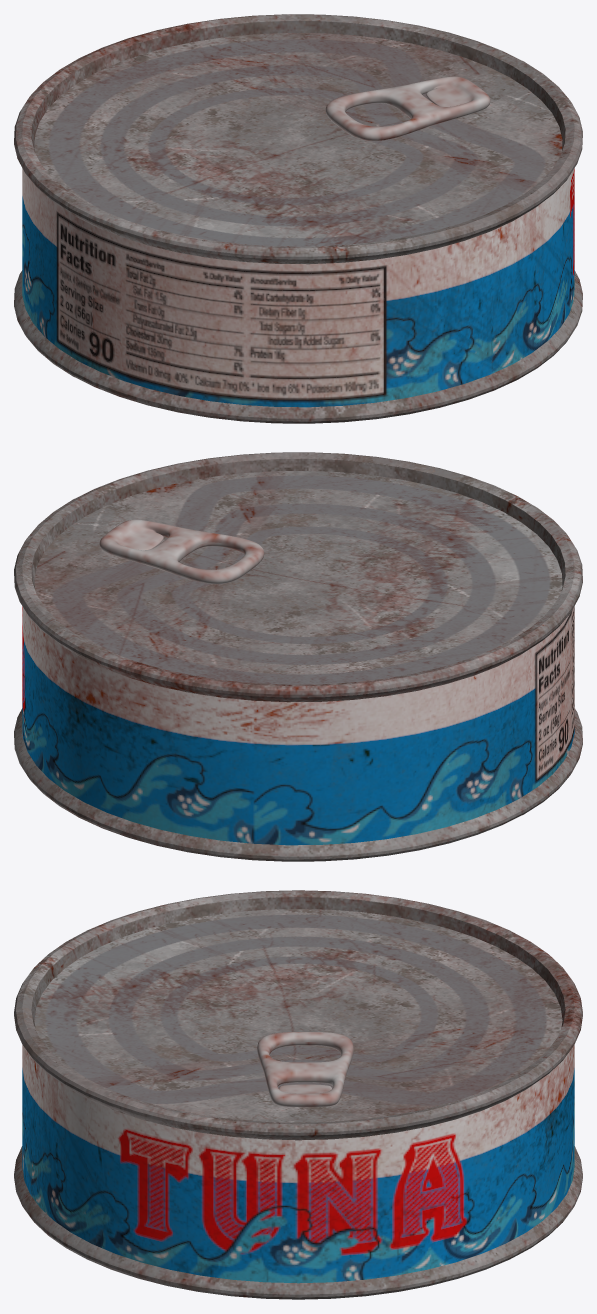
Rendered from latita.obj.
3 views of the same model, one above another, from view 1: azimuth 30°, elevation 25°; view 2: azimuth 150°, elevation 25°; view 3: azimuth 270°, elevation 25° (orthographic).
Parts seen in each view (by area): view 1: tuna_can_Cylinder.001, tuna_can_tab_Mesh.007; view 2: tuna_can_Cylinder.001, tuna_can_tab_Mesh.007; view 3: tuna_can_Cylinder.001, tuna_can_tab_Mesh.007.
Part boxes in pixels (bbox=[...]): tuna_can_Cylinder.001: bbox=[14, 14, 582, 423]; tuna_can_tab_Mesh.007: bbox=[325, 76, 490, 140]; tuna_can_Cylinder.001: bbox=[14, 452, 582, 861]; tuna_can_tab_Mesh.007: bbox=[99, 519, 264, 584]; tuna_can_Cylinder.001: bbox=[14, 890, 582, 1299]; tuna_can_tab_Mesh.007: bbox=[257, 1032, 353, 1107].
Size of the model in its own units: 2.06 by 0.6982 by 2.06.
